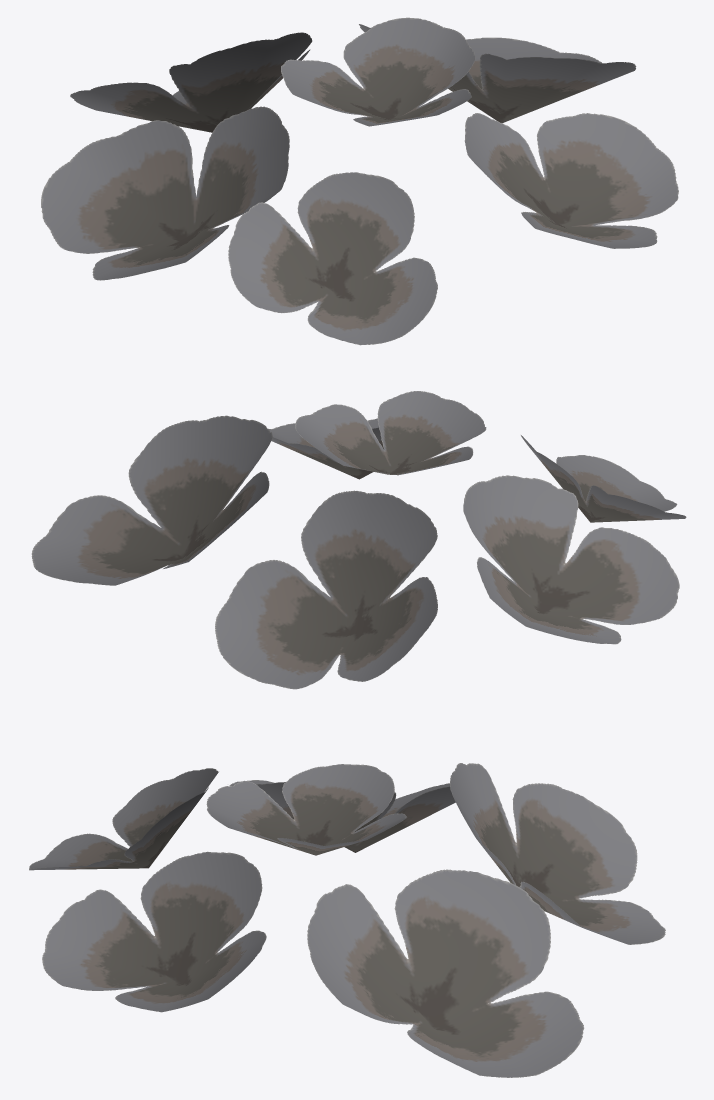
File: Plant_7__go_ruins.glb
The picture shows the model from 3 angles, top to bottom: view 1: azimuth 30°, elevation 25°; view 2: azimuth 150°, elevation 25°; view 3: azimuth 270°, elevation 25°; orthographic projection. The views are drawn at different scales.
Parts seen in each view (by area): view 1: Plant_7; view 2: Plant_7; view 3: Plant_7.
Part boxes in pixels (x1,y1,x2,y2): Plant_7: (41, 17, 678, 345); Plant_7: (31, 391, 686, 689); Plant_7: (29, 763, 665, 1077).
Size of the model in its own units: 1.05 by 0.2495 by 0.9621.
1 material, 1 textured.
